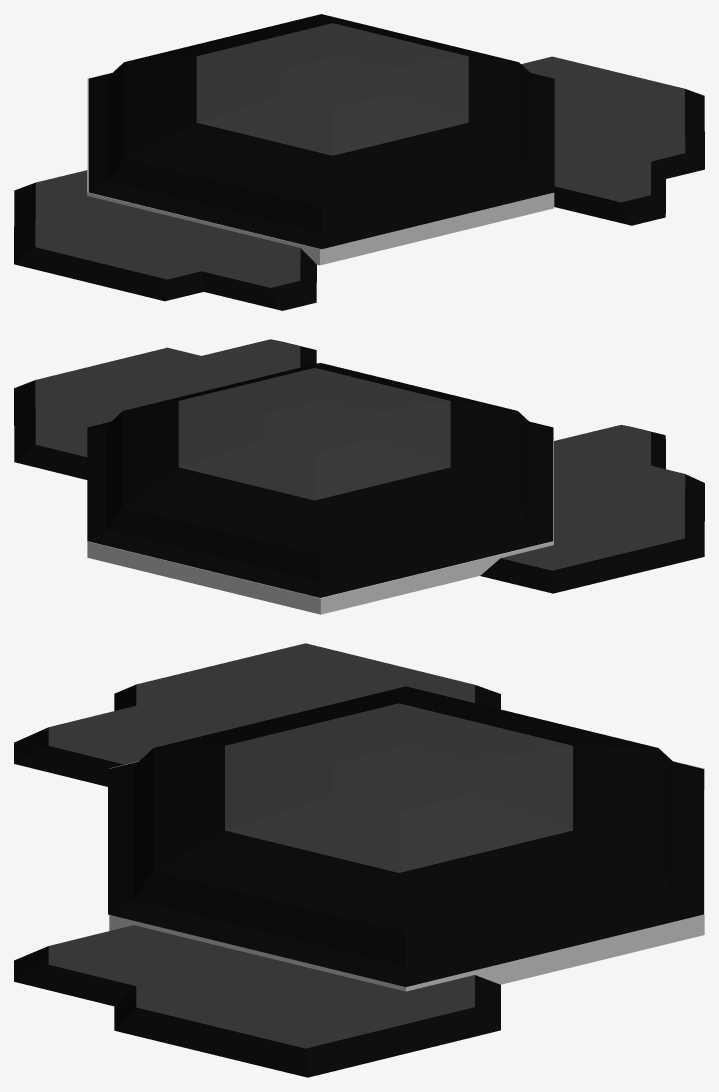
Rendered from TopoTetoProvisorio.gltf.
3 views of the same model, one above another, from view 1: azimuth 30°, elevation 25°; view 2: azimuth 150°, elevation 25°; view 3: azimuth 270°, elevation 25° (orthographic). The views are drawn at different scales.
Visible parts, largest first — view 1: Teto_2nd; view 2: Teto_2nd; view 3: Teto_2nd.
Part boxes in pixels (left/top/right/bottom): Teto_2nd: left=14, top=14, right=704, bottom=310; Teto_2nd: left=14, top=339, right=704, bottom=614; Teto_2nd: left=14, top=643, right=704, bottom=1077.
Size of the model in its own units: 178 by 17.05 by 120.
Materials: 2 (2 with a texture image).
